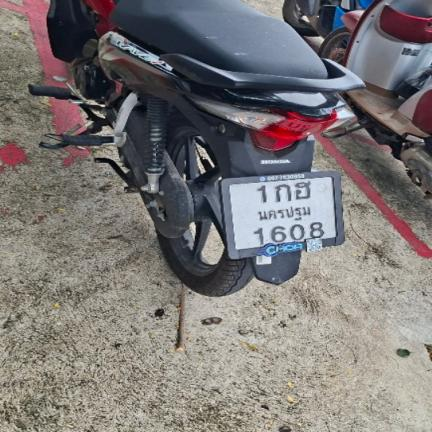0: (288, 224, 306, 240)
1: (255, 184, 269, 203), (252, 227, 265, 245)
6: (268, 226, 286, 242)
8: (309, 221, 325, 238)
A01: (273, 183, 291, 202)
A44: (294, 181, 312, 200)
NPT: (254, 205, 312, 221)
